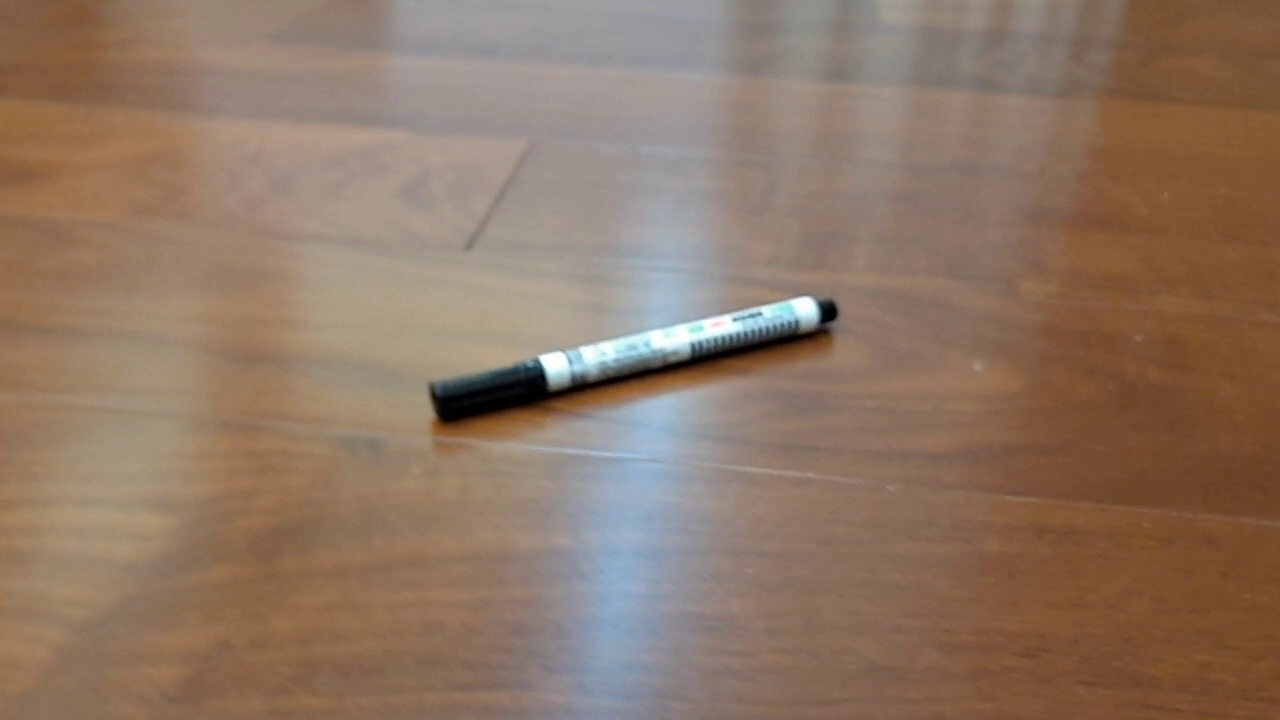pen: (429, 295, 838, 423)
